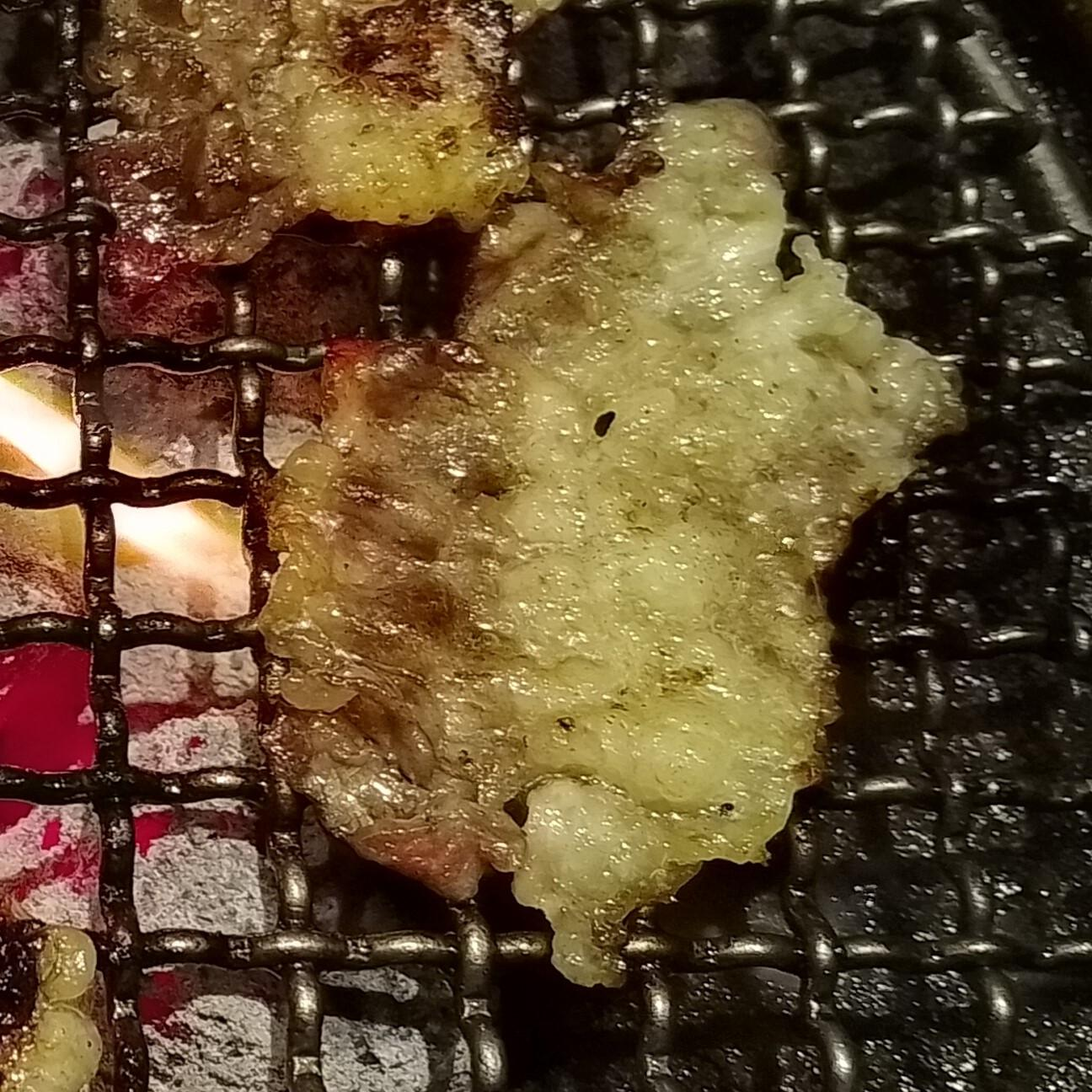Overcooked: (259, 98, 962, 974), (99, 0, 517, 267), (0, 902, 116, 1091)
